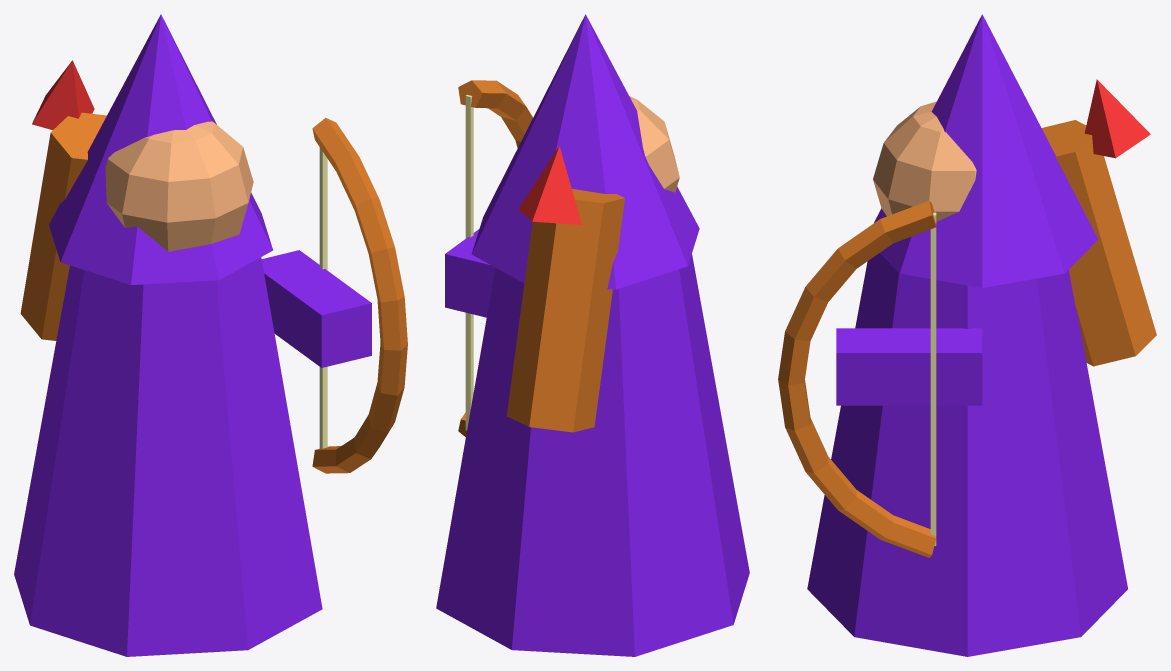
File: archer.obj
The picture shows the model from 3 angles, left to right: view 1: azimuth 30°, elevation 25°; view 2: azimuth 150°, elevation 25°; view 3: azimuth 270°, elevation 25°; orthographic projection.
Visible parts, largest first — view 1: archer; view 2: archer; view 3: archer.
Boxes of the visible parts, bbox=[...] form: archer: bbox=[14, 14, 407, 656]; archer: bbox=[436, 14, 749, 656]; archer: bbox=[778, 14, 1156, 656].
Size of the model in its own units: 0.459 by 0.87 by 0.5194.
